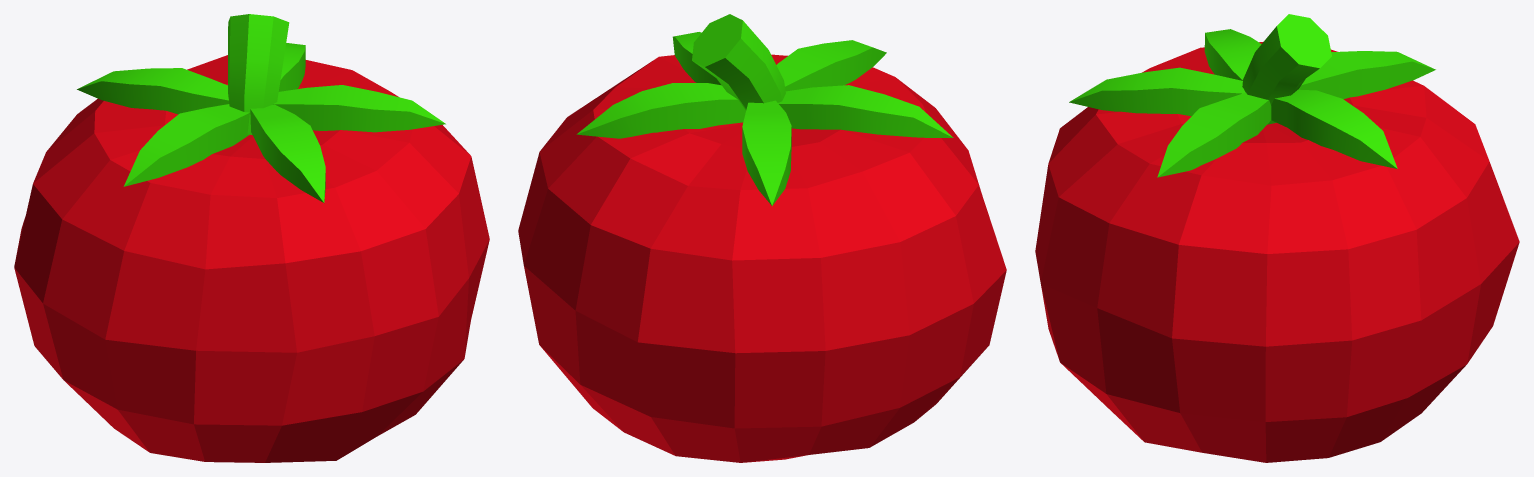
Rendered from tomato.fbx.
3 views of the same model, side by side, from view 1: azimuth 30°, elevation 25°; view 2: azimuth 150°, elevation 25°; view 3: azimuth 270°, elevation 25° (orthographic). The views are drawn at different scales.
Visible parts, largest first — view 1: Cylinder; view 2: Cylinder; view 3: Cylinder.
Part boxes in pixels (x1,y1,x2,y2): Cylinder: [14, 14, 489, 462]; Cylinder: [518, 14, 1006, 462]; Cylinder: [1035, 14, 1519, 462].
Bounding box in the file's own units: 200 × 183 × 198.
